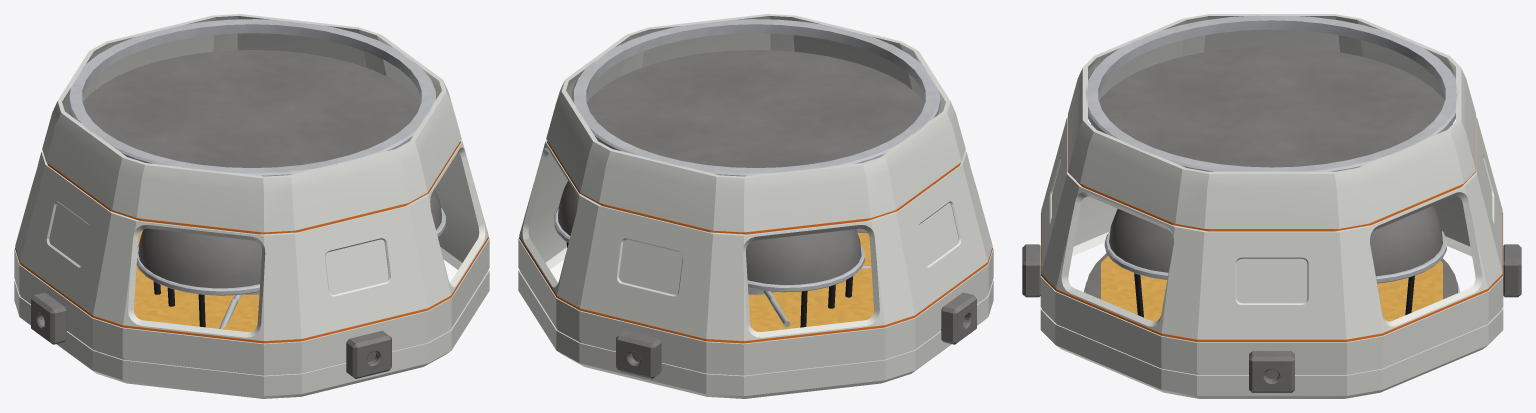
File: ax_tank_02_lander_tank_section.glb
The picture shows the model from 3 angles, left to right: view 1: azimuth 30°, elevation 25°; view 2: azimuth 150°, elevation 25°; view 3: azimuth 270°, elevation 25°; orthographic projection. The views are drawn at different scales.
Visible parts, largest first — view 1: shell, decks, interface_rings, spherical_tanks, mli_floor, leg_hardpoints, orange_stripes, tank_girth_rings, tank_struts; view 2: shell, decks, interface_rings, spherical_tanks, mli_floor, leg_hardpoints, orange_stripes, tank_girth_rings, tank_struts; view 3: shell, decks, interface_rings, spherical_tanks, mli_floor, leg_hardpoints, orange_stripes, tank_girth_rings, tank_struts.
Boxes of the visible parts, bbox=[...] form: shell: bbox=[14, 14, 489, 398]; decks: bbox=[83, 50, 420, 167]; interface_rings: bbox=[67, 19, 435, 176]; spherical_tanks: bbox=[138, 189, 441, 288]; mli_floor: bbox=[134, 230, 259, 331]; leg_hardpoints: bbox=[31, 292, 391, 378]; orange_stripes: bbox=[15, 141, 488, 343]; tank_girth_rings: bbox=[136, 208, 445, 295]; tank_struts: bbox=[153, 281, 205, 327]; shell: bbox=[518, 14, 993, 398]; decks: bbox=[587, 50, 924, 167]; interface_rings: bbox=[572, 19, 940, 176]; spherical_tanks: bbox=[558, 181, 861, 284]; mli_floor: bbox=[748, 232, 873, 331]; leg_hardpoints: bbox=[616, 292, 976, 378]; orange_stripes: bbox=[519, 141, 992, 343]; tank_girth_rings: bbox=[554, 207, 867, 292]; tank_struts: bbox=[566, 242, 852, 327]; shell: bbox=[1040, 14, 1503, 398]; decks: bbox=[1086, 46, 1457, 299]; interface_rings: bbox=[1084, 15, 1459, 292]; spherical_tanks: bbox=[1109, 205, 1442, 276]; mli_floor: bbox=[1101, 256, 1442, 321]; leg_hardpoints: bbox=[1022, 244, 1521, 392]; orange_stripes: bbox=[1041, 118, 1502, 341]; tank_girth_rings: bbox=[1104, 231, 1446, 283]; tank_struts: bbox=[1134, 273, 1414, 317].
Bounding box in the file's own units: 4.96 × 2.3 × 4.96.
Materials: 6 (3 with a texture image).
